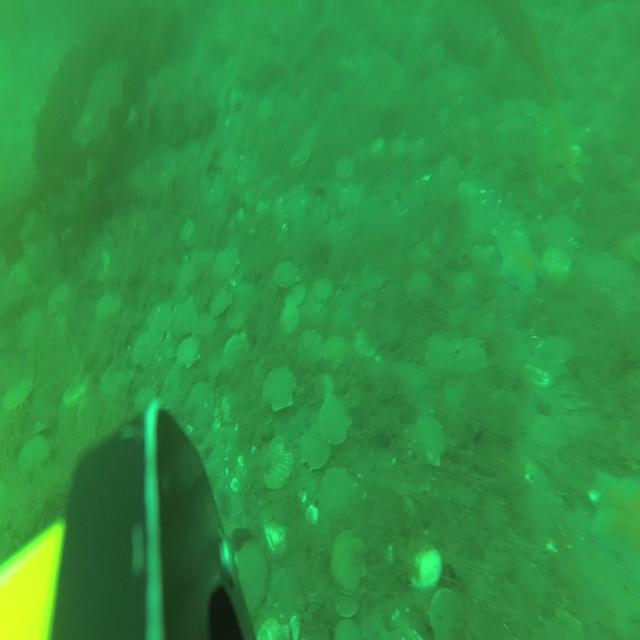scallop: (236, 536, 271, 618), (332, 527, 368, 596), (259, 432, 295, 491), (318, 466, 358, 518), (410, 414, 449, 467), (530, 412, 563, 468), (318, 394, 352, 448), (408, 544, 444, 594), (262, 364, 297, 414), (298, 423, 332, 472), (429, 586, 460, 638), (100, 357, 132, 406), (15, 435, 53, 476), (456, 333, 488, 378), (252, 351, 290, 388), (423, 333, 459, 372), (61, 370, 94, 411), (3, 374, 36, 415), (186, 382, 216, 424), (297, 326, 324, 372), (17, 308, 45, 352), (443, 374, 472, 414), (322, 330, 350, 370), (360, 257, 390, 294), (222, 332, 250, 371), (542, 245, 572, 281), (406, 268, 433, 306), (214, 244, 239, 284), (171, 298, 197, 336), (452, 268, 478, 306), (132, 330, 156, 370), (46, 281, 71, 318), (95, 290, 122, 324), (355, 326, 380, 361), (440, 151, 463, 189), (272, 260, 302, 289), (147, 301, 172, 335), (132, 385, 158, 417), (176, 336, 201, 369), (210, 282, 233, 317), (278, 302, 300, 337), (226, 300, 252, 328), (92, 248, 111, 284), (192, 313, 217, 340), (333, 617, 362, 640), (178, 214, 198, 247), (334, 596, 361, 620), (282, 279, 306, 306), (317, 365, 333, 405), (218, 148, 240, 177), (254, 95, 275, 125), (313, 275, 335, 303), (334, 154, 356, 182), (290, 144, 312, 170), (369, 134, 385, 158)
starfish: (587, 463, 640, 584), (495, 223, 547, 298)
